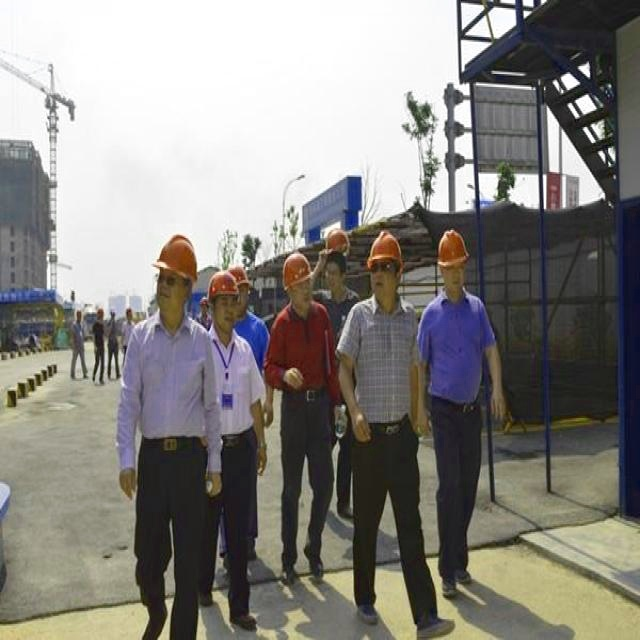Con_Casco: (154, 235, 198, 321), (436, 228, 472, 292)
